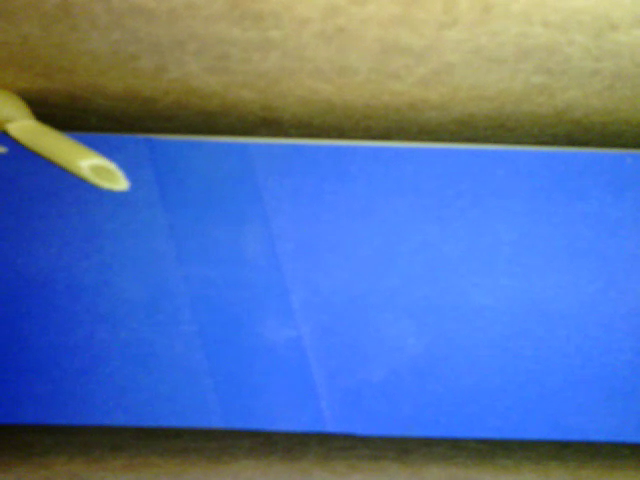penne: (4, 119, 130, 192)
